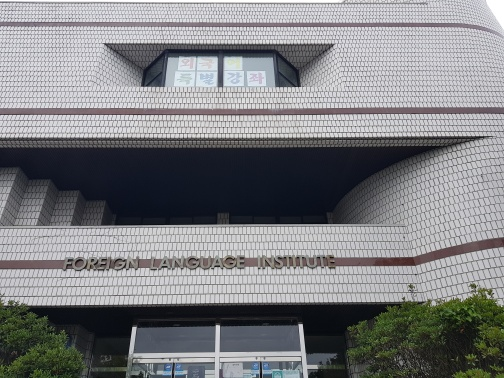Foreign Language Institute: (7, 8, 504, 367), (115, 26, 284, 111), (44, 243, 348, 289)
